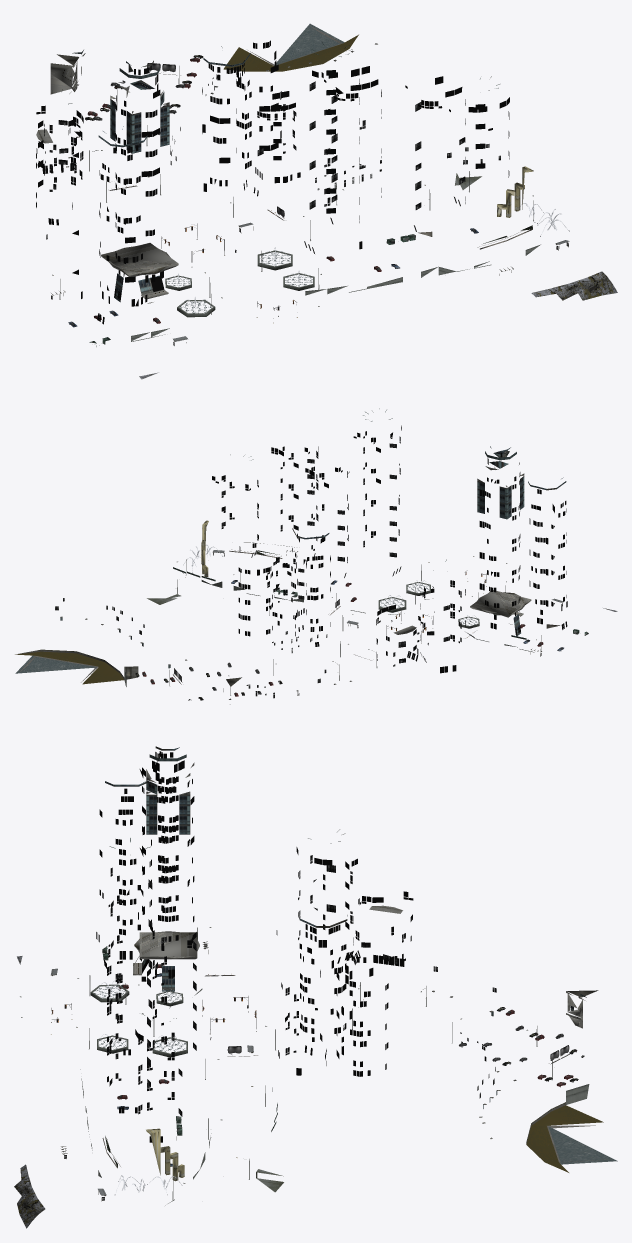
Rendered from world_camden_13_-5.gltf.
3 renders of one model, top to bottom at view 1: azimuth 30°, elevation 25°; view 2: azimuth 150°, elevation 25°; view 3: azimuth 270°, elevation 25°, orthographic. The views are drawn at different scales.
Size of the model in its own units: 265 by 142 by 274.
Materials: 44 (44 with a texture image).
